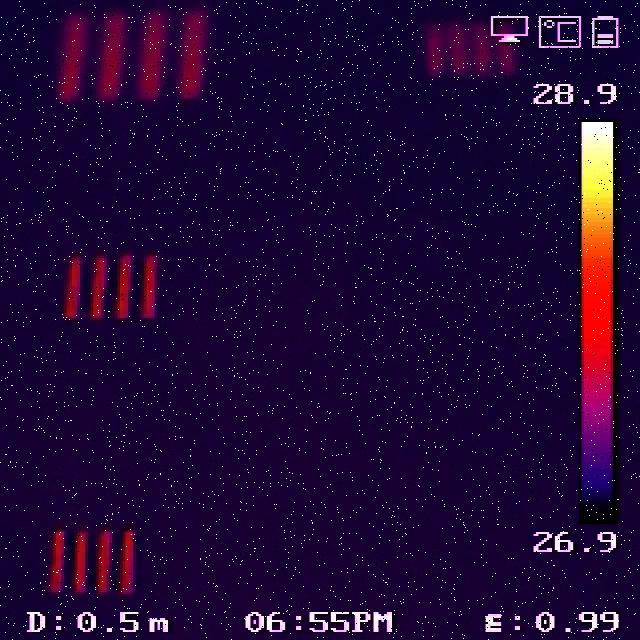Distinguishable 4-bar target: (55, 4, 213, 102), (64, 245, 163, 325), (41, 524, 143, 599)
threshold 4-bar target: (417, 15, 523, 77)
